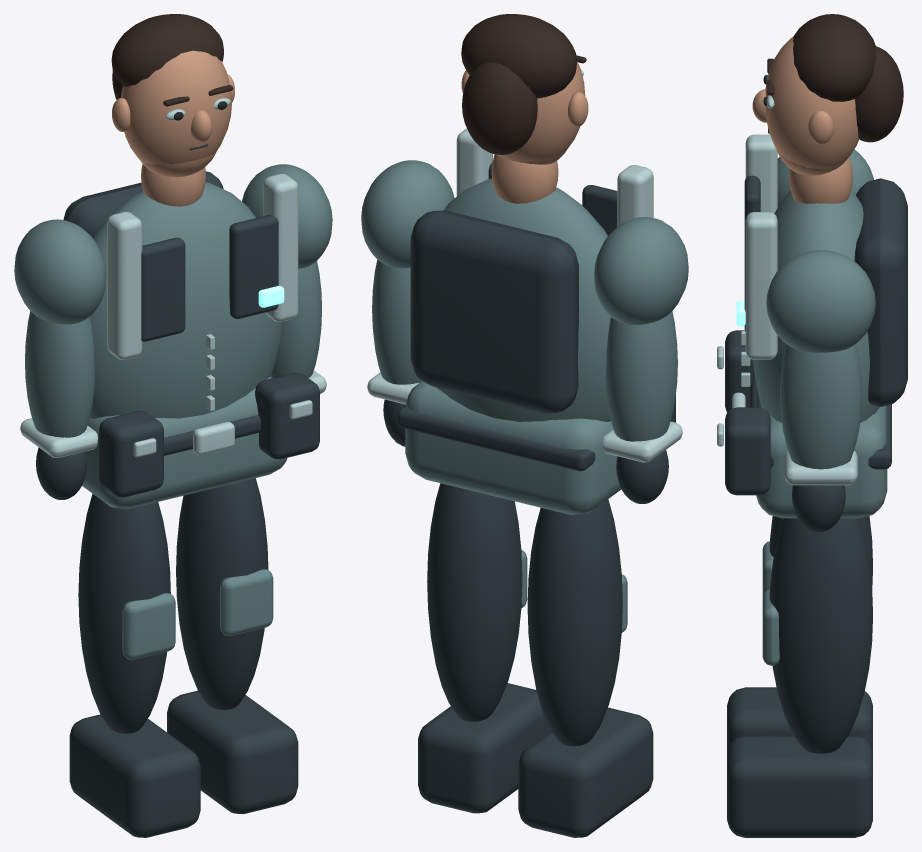
Rendered from npc-mara.glb.
3 views of the same model, side by side, from view 1: azimuth 30°, elevation 25°; view 2: azimuth 150°, elevation 25°; view 3: azimuth 270°, elevation 25° (orthographic). The views are drawn at different scales.
Parts seen in each view (by area): view 1: Coat torso, Trouser, Trouser.001, Boot, Boot.001, Face, Coat hem, Shoulder, Sleeve, Shoulder harness, Hair cap, Hip pouch (+15 smaller); view 2: Back armor, Trouser, Trouser.001, Coat hem, Boot, Coat torso, Boot.001, Shoulder, Sleeve, Hair cap, Shoulder.001, Tied hair (+11 smaller); view 3: Trouser.001, Boot.001, Back armor, Shoulder.001, Sleeve.001, Coat torso, Face, Hair cap, Coat hem, Shoulder harness.001, Hip pouch.001, Boot (+14 smaller).
Boxes of the visible parts, x1,y1,x2,y2 form: Coat torso: [90, 182, 281, 418]; Trouser: [78, 493, 170, 733]; Trouser.001: [176, 478, 268, 709]; Boot: [69, 714, 200, 837]; Boot.001: [167, 690, 298, 814]; Face: [121, 50, 231, 164]; Coat hem: [82, 376, 287, 508]; Shoulder: [14, 219, 106, 324]; Sleeve: [25, 311, 94, 437]; Shoulder harness: [107, 212, 142, 359]; Hair cap: [111, 14, 223, 86]; Hip pouch: [99, 411, 163, 497]; Back armor: [410, 210, 578, 413]; Trouser: [527, 499, 622, 746]; Trouser.001: [427, 483, 522, 721]; Coat hem: [405, 381, 621, 514]; Boot: [518, 707, 653, 837]; Coat torso: [436, 178, 610, 422]; Boot.001: [418, 683, 550, 813]; Shoulder: [594, 217, 688, 324]; Sleeve: [606, 311, 677, 441]; Hair cap: [461, 14, 576, 98]; Shoulder.001: [361, 160, 454, 268]; Tied hair: [462, 62, 537, 154]; Trouser.001: [769, 518, 872, 753]; Boot.001: [727, 735, 872, 837]; Back armor: [854, 178, 907, 406]; Shoulder.001: [766, 250, 875, 352]; Sleeve.001: [780, 344, 862, 469]; Coat torso: [752, 190, 879, 422]; Face: [765, 37, 858, 168]; Hair cap: [793, 14, 875, 101]; Coat hem: [755, 381, 887, 518]; Shoulder harness.001: [745, 212, 777, 359]; Hip pouch.001: [725, 407, 770, 495]; Boot: [727, 687, 872, 752].
Bounding box in the file's own units: 0.772 × 1.88 × 0.4175.
